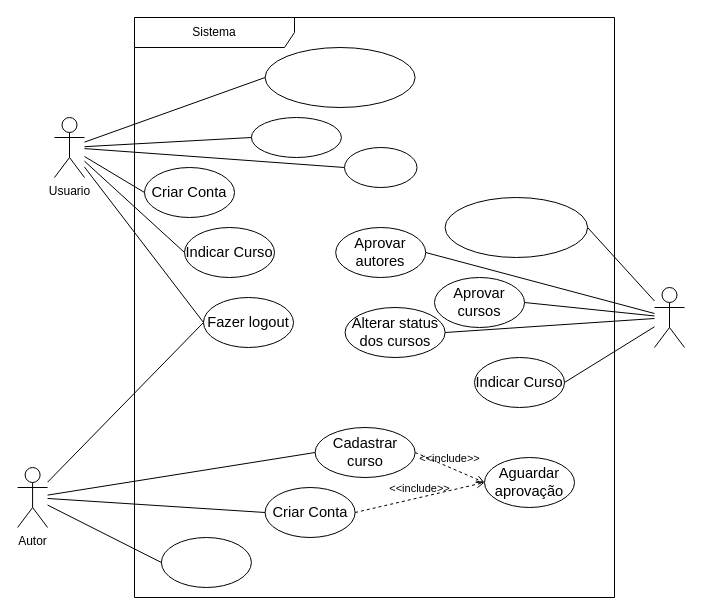
Some shapes in this 704 by 615 pixel diagram are drawn without their labels. The box of each missing label's shape, as (x1, y1, x2, y2) in pixels:
Admin: (654, 286, 684, 348)
Alterar status dos autores: (444, 196, 588, 258)
Editar curso: (160, 536, 251, 588)
Filtrar cursos: (250, 116, 341, 158)
Salvar cursos: (344, 146, 417, 188)
Visualizar dos cursos: (264, 46, 415, 108)
